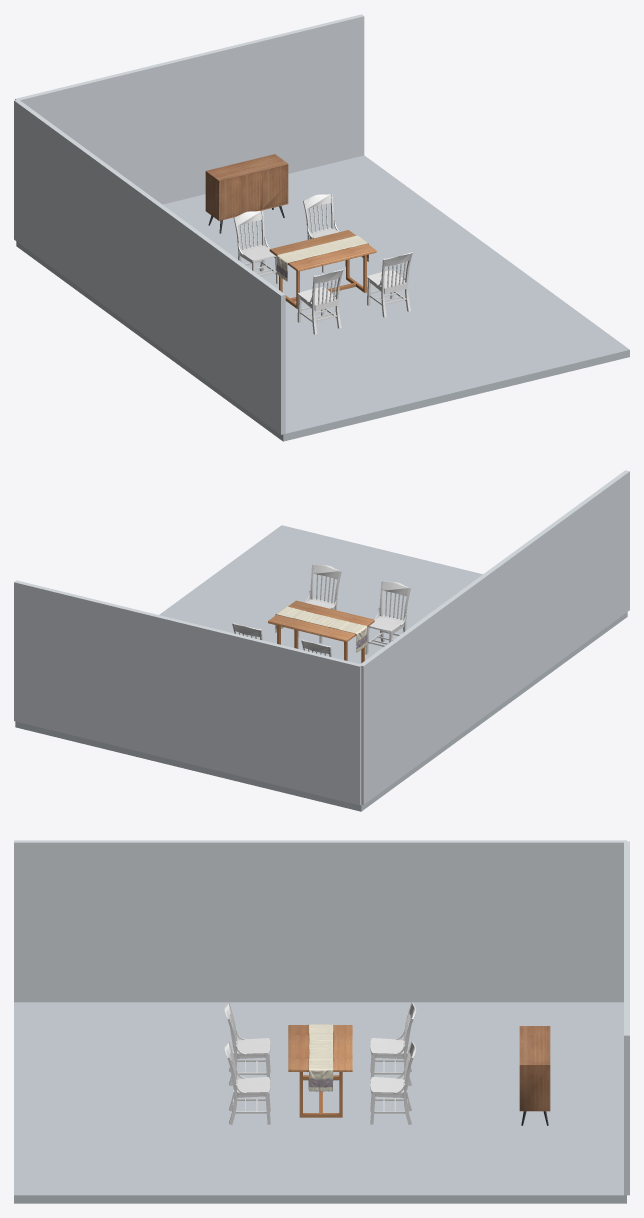
File: stage1.glb
3 views of the same model, one above another, from view 1: azimuth 30°, elevation 25°; view 2: azimuth 150°, elevation 25°; view 3: azimuth 270°, elevation 25° (orthographic). The views are drawn at different scales.
Visible parts, largest first — view 1: Floor, wall_left, wall_back, raw_model.004, solid_001, raw_model.001, raw_model, raw_model.003, solid_002, raw_model.002; view 2: wall_back, wall_left, Floor, solid_001, raw_model.001, solid_002, raw_model; view 3: Floor, wall_left, raw_model.004, solid_001, wall_back, raw_model.002, solid_002, raw_model, raw_model.003, raw_model.001.
Boxes of the visible parts, box(x1,y1,x2,y2) form: Floor: box(16, 155, 629, 441); wall_left: box(14, 100, 285, 434); wall_back: box(15, 14, 364, 204); raw_model.004: box(205, 154, 288, 233); solid_001: box(269, 230, 376, 309); raw_model.001: box(297, 269, 343, 334); raw_model: box(367, 252, 412, 317); raw_model.003: box(233, 210, 278, 283); solid_002: box(277, 235, 368, 281); raw_model.002: box(303, 193, 345, 272); wall_back: box(14, 580, 361, 805); wall_left: box(360, 470, 629, 804); Floor: box(15, 525, 627, 811); solid_001: box(268, 600, 374, 662); raw_model.001: box(365, 581, 410, 654); solid_002: box(275, 606, 367, 652); raw_model: box(298, 564, 341, 643); Floor: box(14, 1002, 626, 1203); wall_left: box(14, 840, 626, 1002); raw_model.004: box(519, 1026, 550, 1125); solid_001: box(288, 1025, 352, 1117); wall_back: box(624, 841, 629, 1195); raw_model.002: box(370, 1041, 416, 1124); solid_002: box(308, 1024, 333, 1091); raw_model: box(224, 1041, 270, 1124); raw_model.003: box(370, 1002, 416, 1085); raw_model.001: box(224, 1002, 270, 1085).
Bounding box in the file's own units: 6.04 × 2.42 × 8.04.
8 materials, 6 textured.
